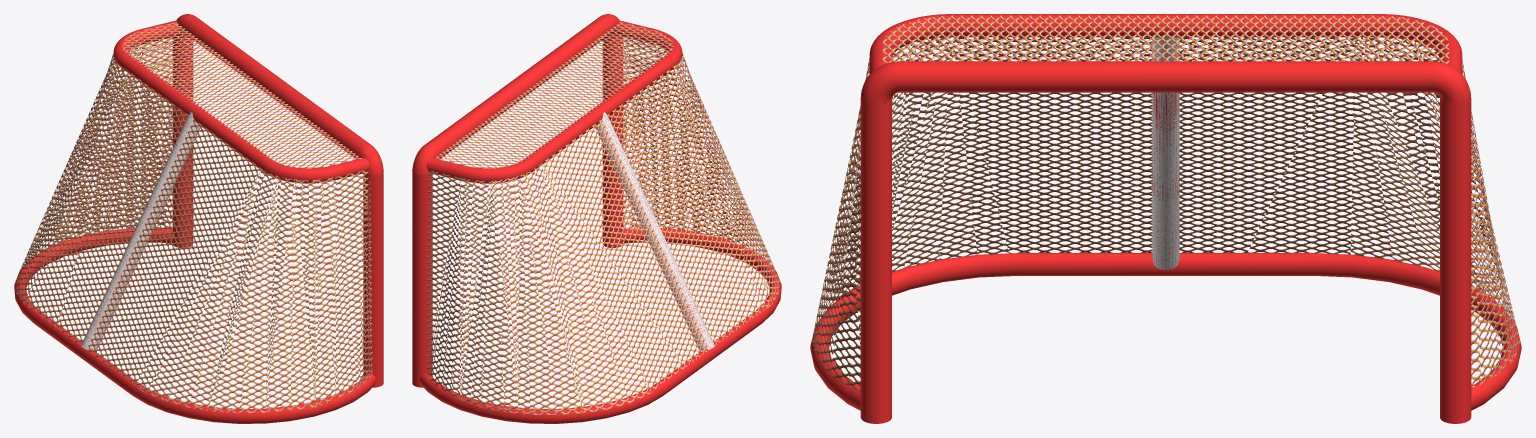
The picture shows the model from 3 angles, left to right: view 1: azimuth 30°, elevation 25°; view 2: azimuth 150°, elevation 25°; view 3: azimuth 270°, elevation 25°; orthographic projection. The views are drawn at different scales.
Parts seen in each view (by area): view 1: SketchUp (×7); view 2: SketchUp (×7); view 3: SketchUp (×7).
Boxes of the visible parts, <box> form: SketchUp (×7): <box>14,14,383,423</box>; SketchUp (×7): <box>412,14,781,423</box>; SketchUp (×7): <box>810,14,1521,423</box>.
Size of the model in its own units: 46.18 by 90.9 by 50.02.
4 materials, 2 textured.
